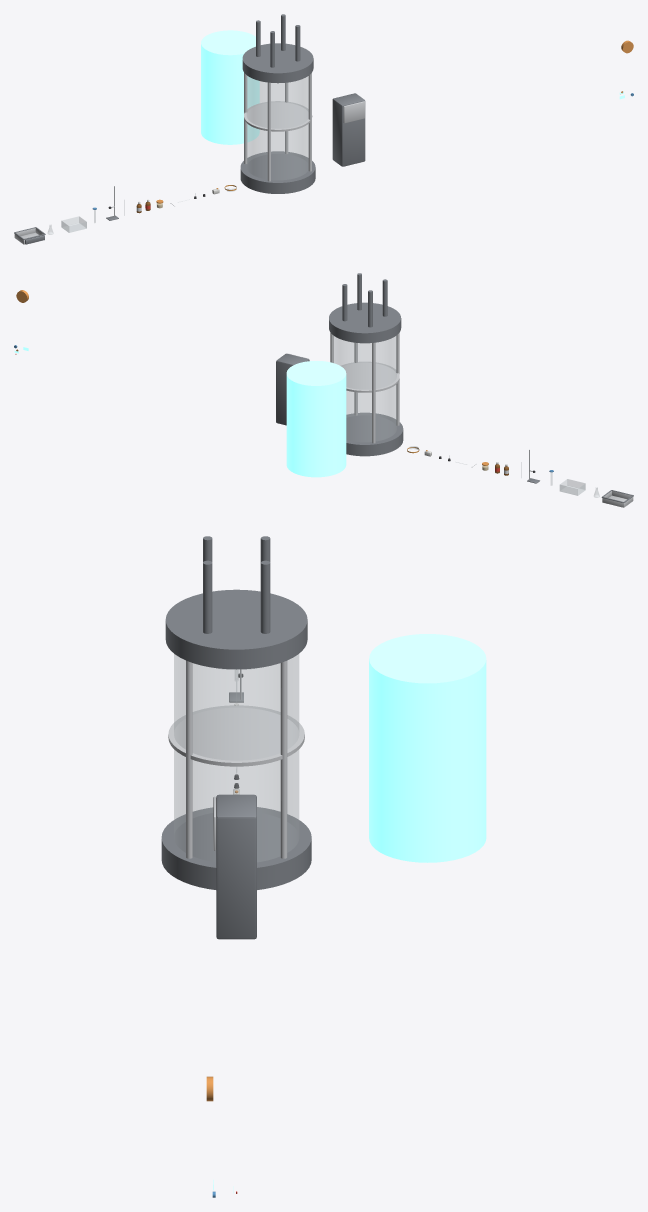
Rendered from props.glb.
3 views of the same model, one above another, from view 1: azimuth 30°, elevation 25°; view 2: azimuth 150°, elevation 25°; view 3: azimuth 270°, elevation 25° (orthographic). The views are drawn at different scales.
Parts seen in each view (by area): view 1: P_generatorTank, P_generatorLiquid, P_generatorGlass, P_generatorConsole, P_bath; view 2: P_generatorTank, P_generatorLiquid, P_generatorGlass, P_generatorConsole, P_bath; view 3: P_generatorTank, P_generatorLiquid, P_generatorGlass, P_generatorConsole.
Part boxes in pixels (x1,y1,x2,y2): P_generatorTank: (240,14,315,193); P_generatorLiquid: (201,30,259,144); P_generatorGlass: (247,76,308,179); P_generatorConsole: (332,93,365,166); P_bath: (14,227,45,244); P_generatorTank: (329,273,403,456); P_generatorLiquid: (286,361,346,477); P_generatorGlass: (334,335,396,441); P_generatorConsole: (276,353,309,425); P_bath: (601,490,633,507); P_generatorTank: (161,536,311,889); P_generatorLiquid: (369,634,486,862); P_generatorGlass: (174,654,298,861); P_generatorConsole: (213,794,256,939).
Bounding box in the file's own units: 10.31 × 2.5 × 2.38.
